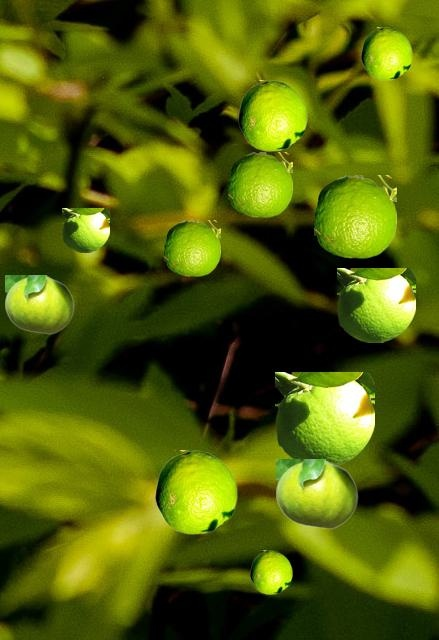dalandan: (275, 372, 373, 465), (155, 450, 236, 533), (314, 175, 395, 257), (337, 268, 414, 341), (276, 459, 357, 528), (238, 80, 306, 150), (228, 152, 291, 216), (5, 275, 73, 333), (164, 220, 219, 275), (361, 27, 411, 79), (62, 208, 108, 251), (250, 550, 291, 593)
